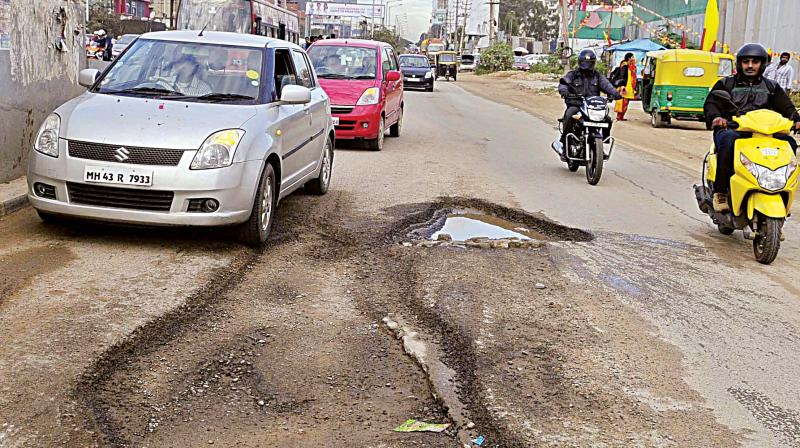pothole: (397, 184, 576, 282)
